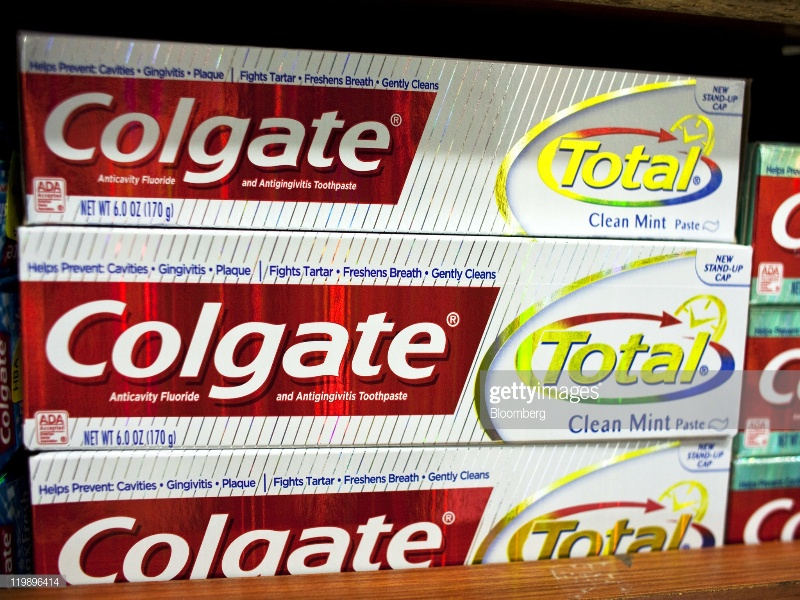colgate-medium: (25, 240, 758, 446), (23, 74, 751, 224), (26, 456, 725, 557)
